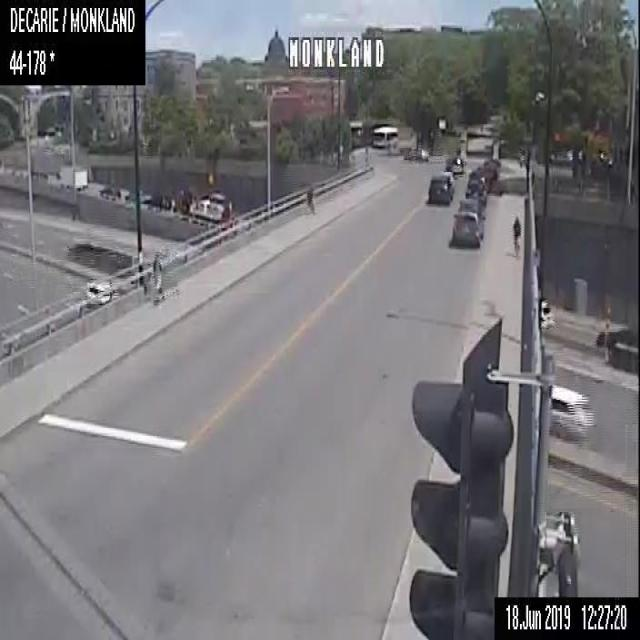bus: (372, 126, 398, 146)
pedestrian: (152, 253, 164, 303), (304, 182, 314, 215), (512, 217, 520, 256)
vehicle: (549, 384, 593, 436), (593, 325, 639, 371), (452, 197, 486, 244), (190, 191, 234, 224), (54, 166, 88, 190), (84, 281, 114, 307), (426, 172, 452, 202), (537, 296, 553, 332), (465, 178, 486, 202), (446, 154, 466, 173), (403, 147, 428, 160), (98, 185, 120, 199)
